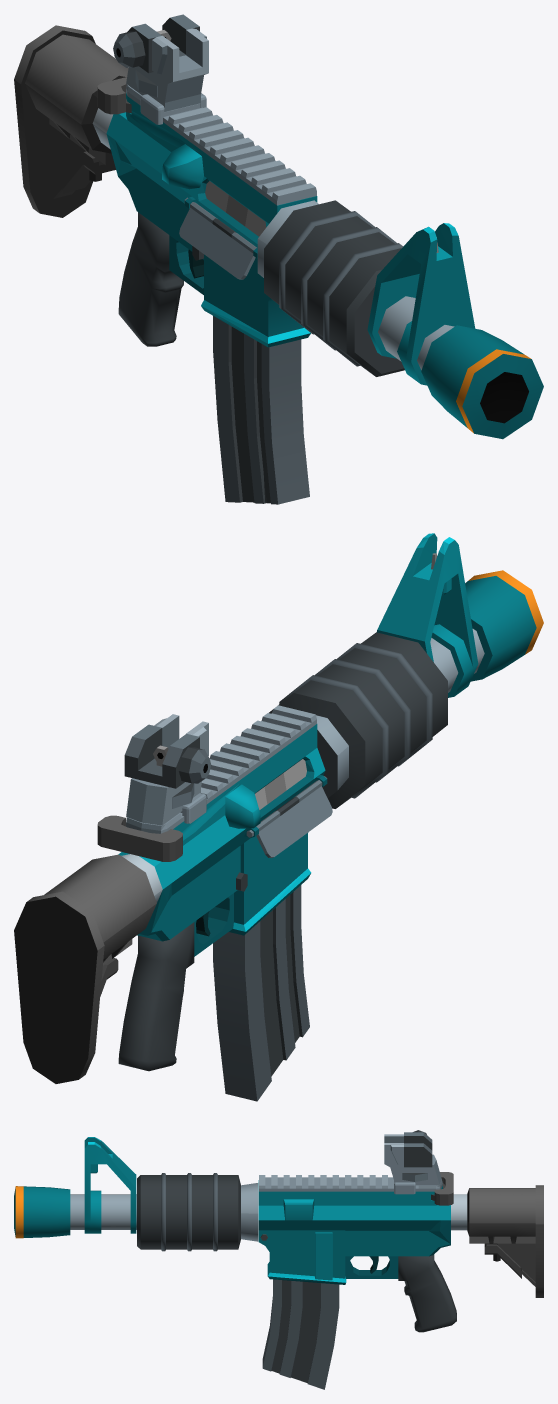
The model's file is Weapon_AR01_G1_QTEND.fbx.
3 renders of one model, top to bottom at view 1: azimuth 30°, elevation 25°; view 2: azimuth 150°, elevation 25°; view 3: azimuth 270°, elevation 25°, orthographic. The views are drawn at different scales.
Visible parts, largest first — view 1: Weapon_AR01_G1_QT_RE02, Weapon_AR01_G1_QT_REOutline001; view 2: Weapon_AR01_G1_QT_RE02; view 3: Weapon_AR01_G1_QT_RE02.
Part boxes in pixels (left/top/right/bottom): Weapon_AR01_G1_QT_RE02: left=14, top=14, right=543, bottom=504; Weapon_AR01_G1_QT_REOutline001: left=129, top=111, right=266, bottom=503; Weapon_AR01_G1_QT_RE02: left=14, top=533, right=543, bottom=1101; Weapon_AR01_G1_QT_RE02: left=14, top=1130, right=543, bottom=1389.
Size of the model in its own units: 1.63 by 6.06 by 11.84.
